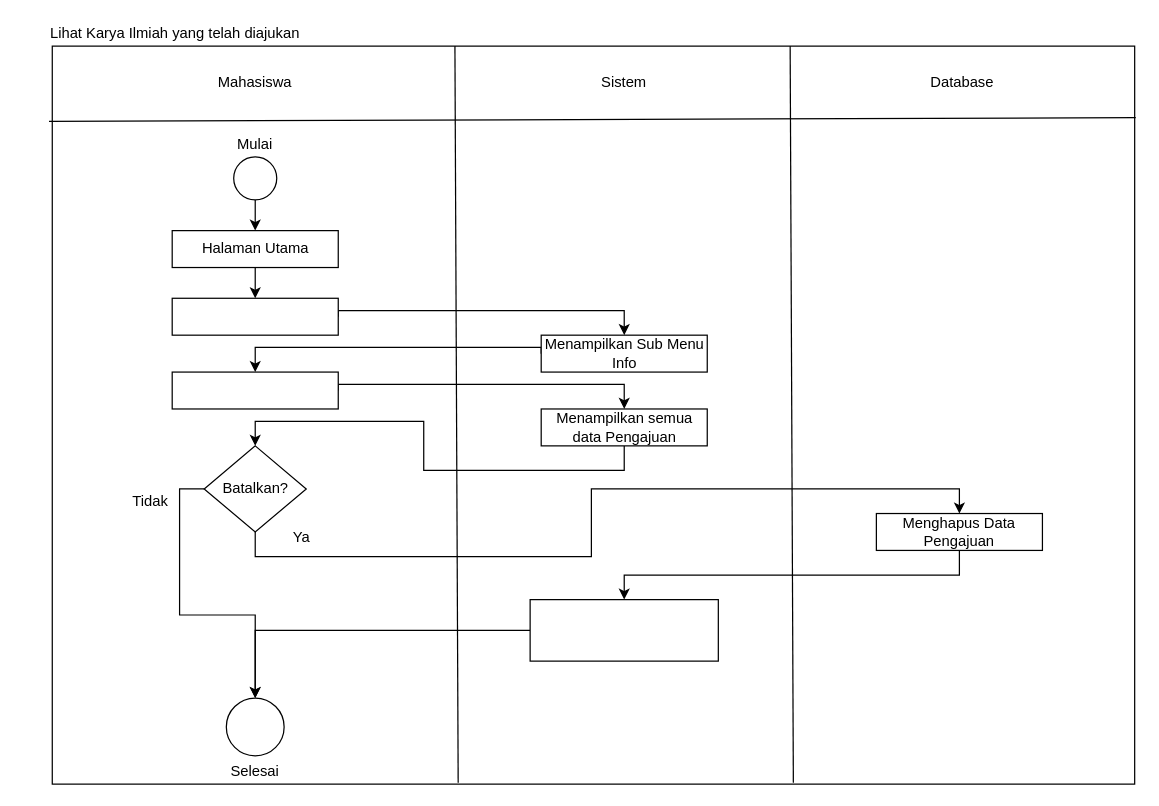
Some shapes in this 1159 by 806 pixel diagram are drawn without their labels. The centre of each missing label's shape, as x and y in pixels:
"Buka Menu Info" belongs at (254,316).
"Pemberitahuan Pengajuan berhasil Dibatalkan" belongs at (623,629).
"Pilih Sub Menu Pengajuan" belongs at (254,390).
